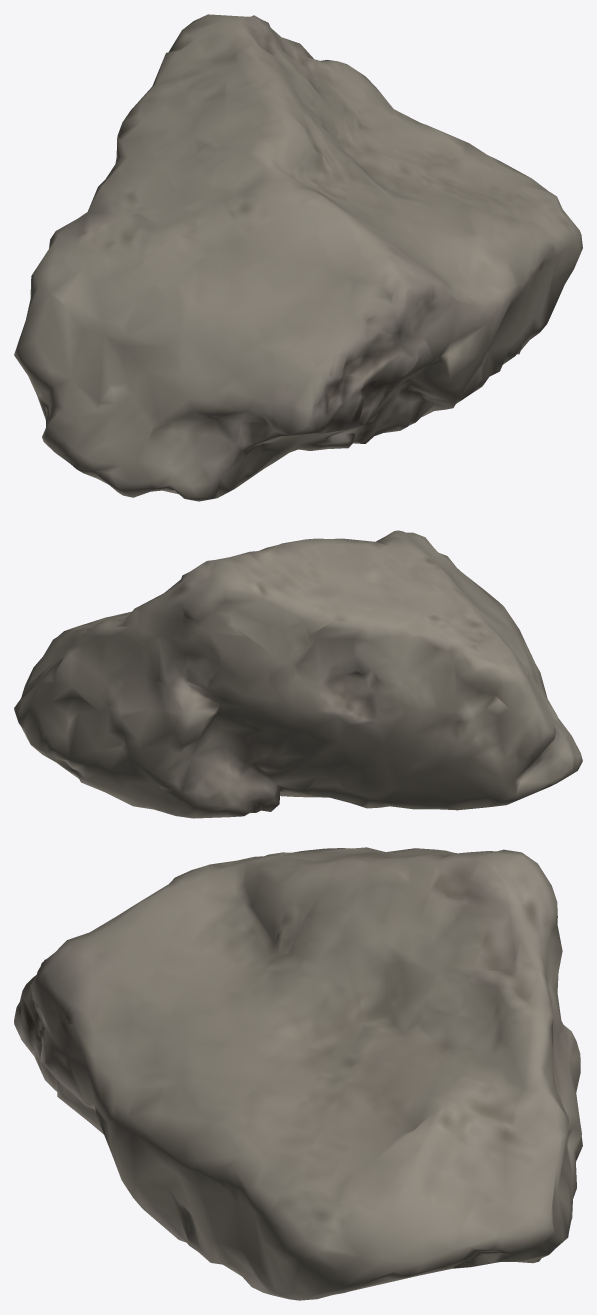
Rendered from rock-moon-03.b02cf374.glb.
The picture shows the model from 3 angles, top to bottom: view 1: azimuth 30°, elevation 25°; view 2: azimuth 150°, elevation 25°; view 3: azimuth 270°, elevation 25°; orthographic projection. The views are drawn at different scales.
Visible parts, largest first — view 1: model; view 2: model; view 3: model.
Boxes of the visible parts, x1,y1,x2,y2 form: model: (14, 14, 582, 501); model: (14, 530, 582, 818); model: (14, 847, 582, 1300).
Size of the model in its own units: 0.112 by 0.0582 by 0.0861.
Materials: 1 (1 with a texture image).
